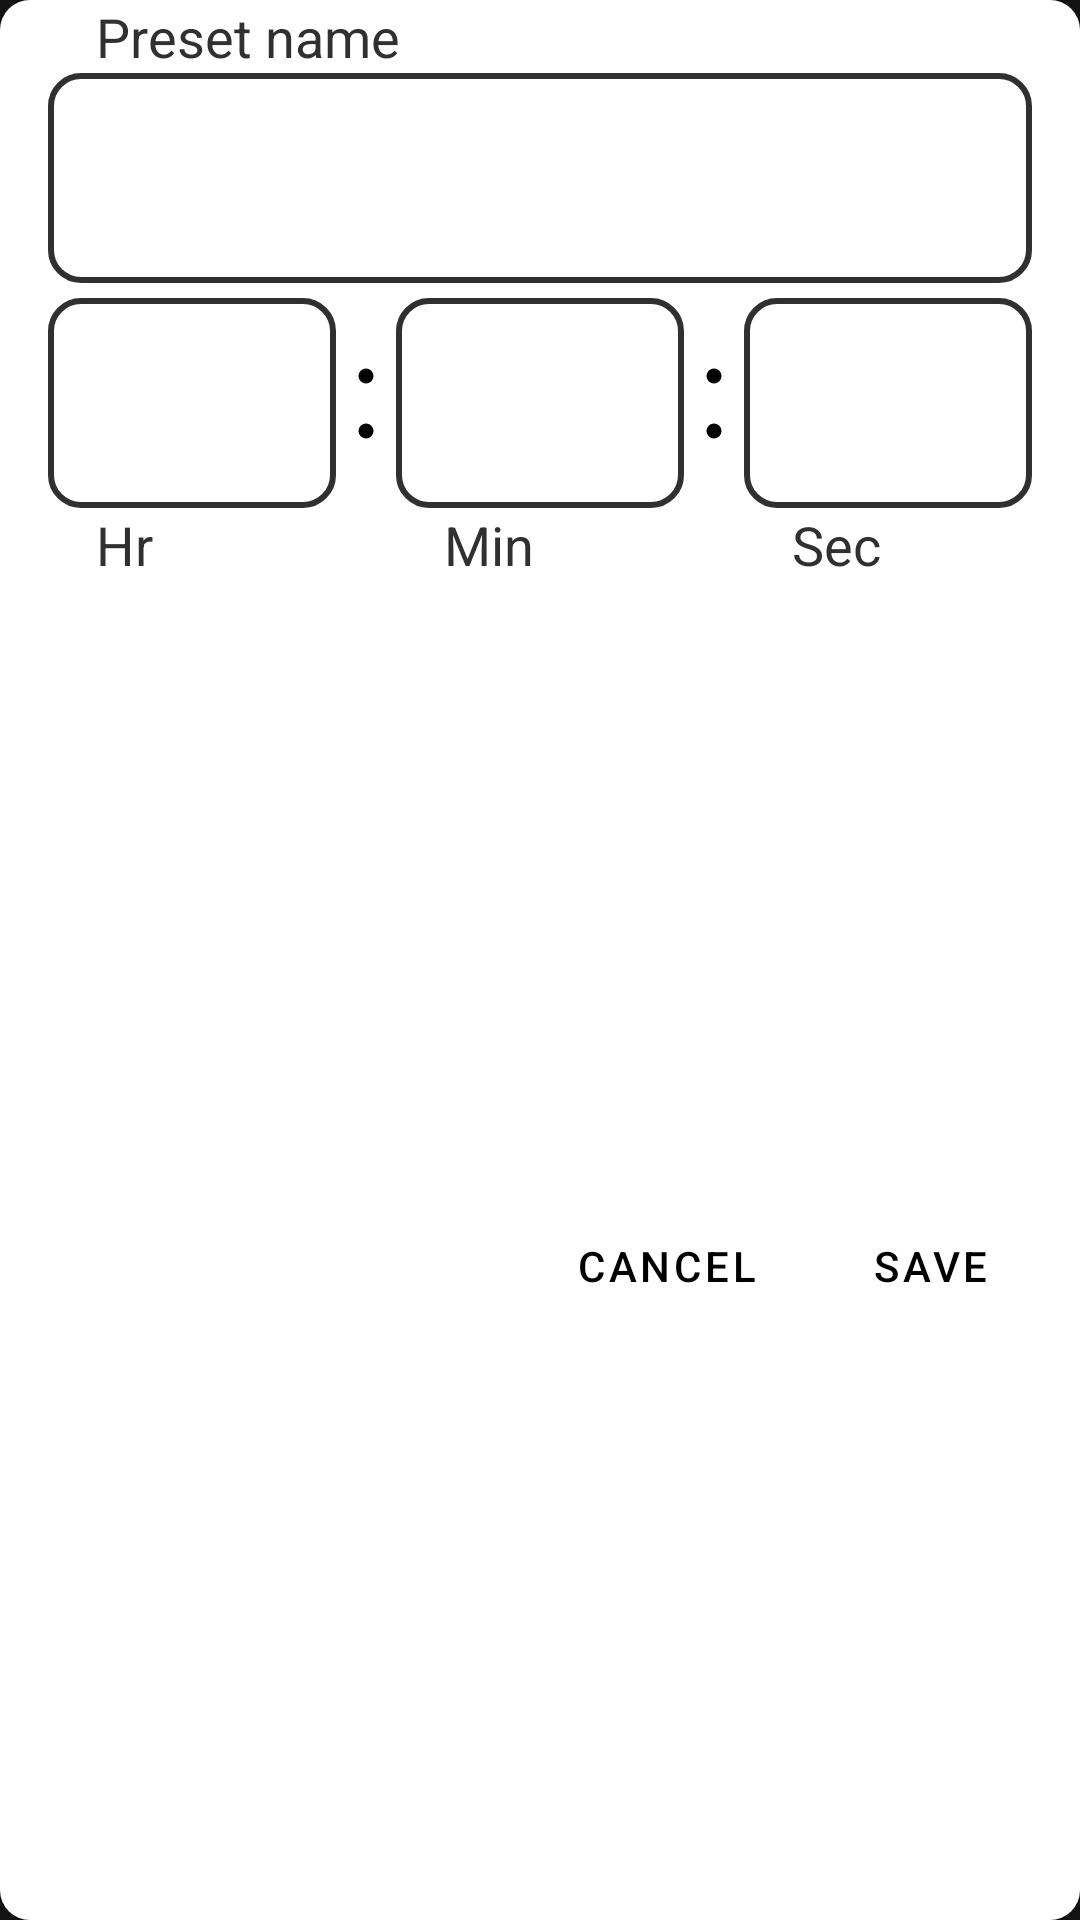

Icons on this 1080px x 1920px Android screen, each with the point to tap as (x=x, y=y):
Colon: (x=366, y=403), (x=714, y=403)
